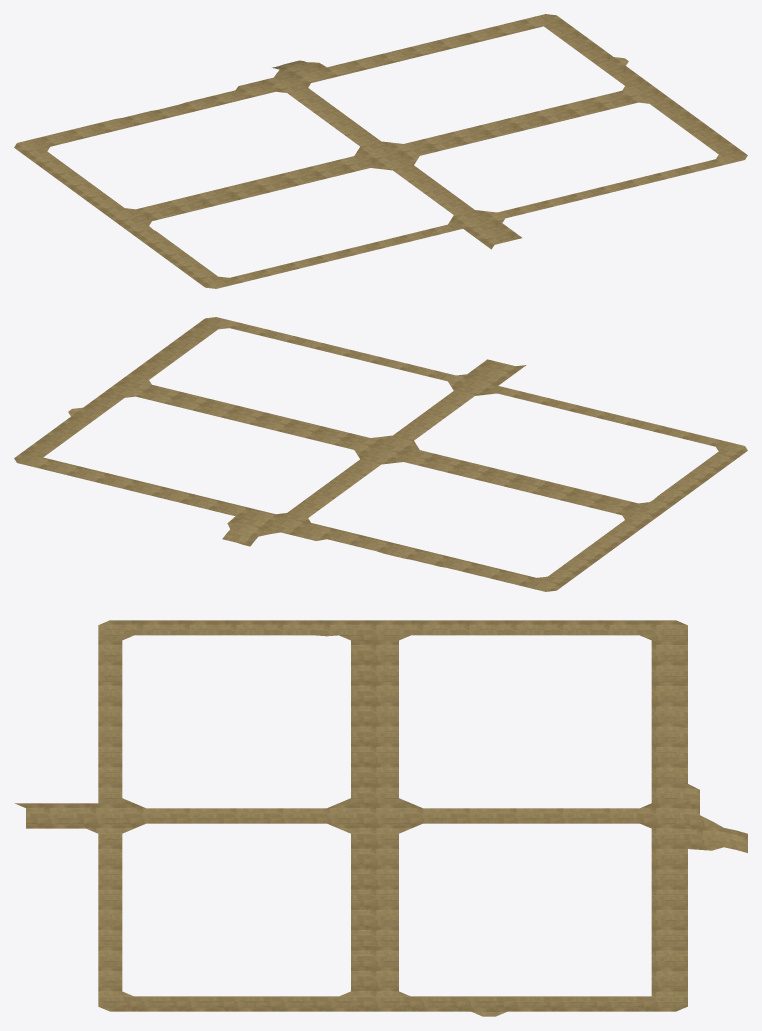
Rendered from sandstonePaths.glb.
The picture shows the model from 3 angles, top to bottom: view 1: azimuth 30°, elevation 25°; view 2: azimuth 150°, elevation 25°; view 3: azimuth 270°, elevation 25°; orthographic projection. The views are drawn at different scales.
Visible parts, largest first — view 1: road desert town; view 2: road desert town; view 3: road desert town.
Boxes of the visible parts, left/top/right/bottom form: road desert town: left=14, top=14, right=747, bottom=288; road desert town: left=14, top=317, right=747, bottom=591; road desert town: left=15, top=620, right=747, bottom=1016.
Bounding box in the file's own units: 79.24 × 0.9431 × 61.97.
1 material, 1 textured.
